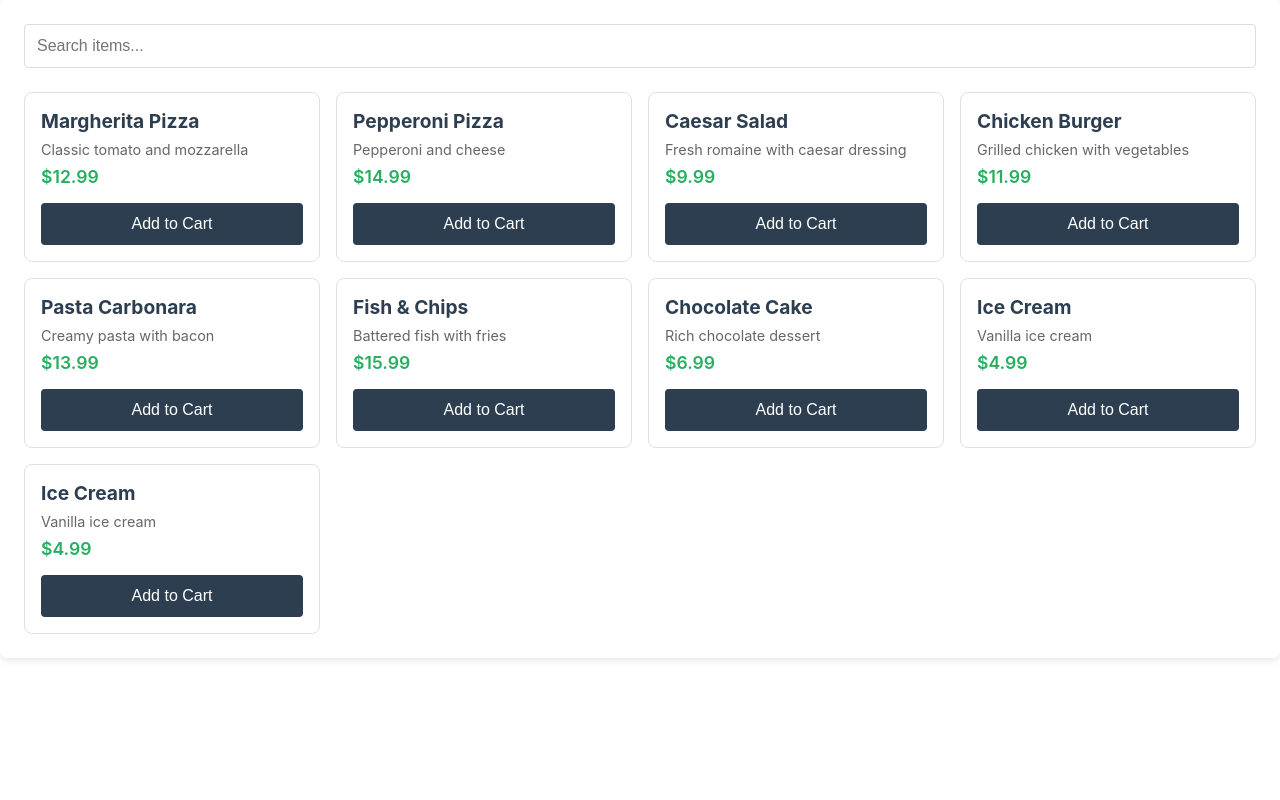
Scenario: ItemList › filters items by description
Type "chocolate" into the field with placeholder "Search items...". click: (640, 46)
box: [24, 24, 1256, 68]
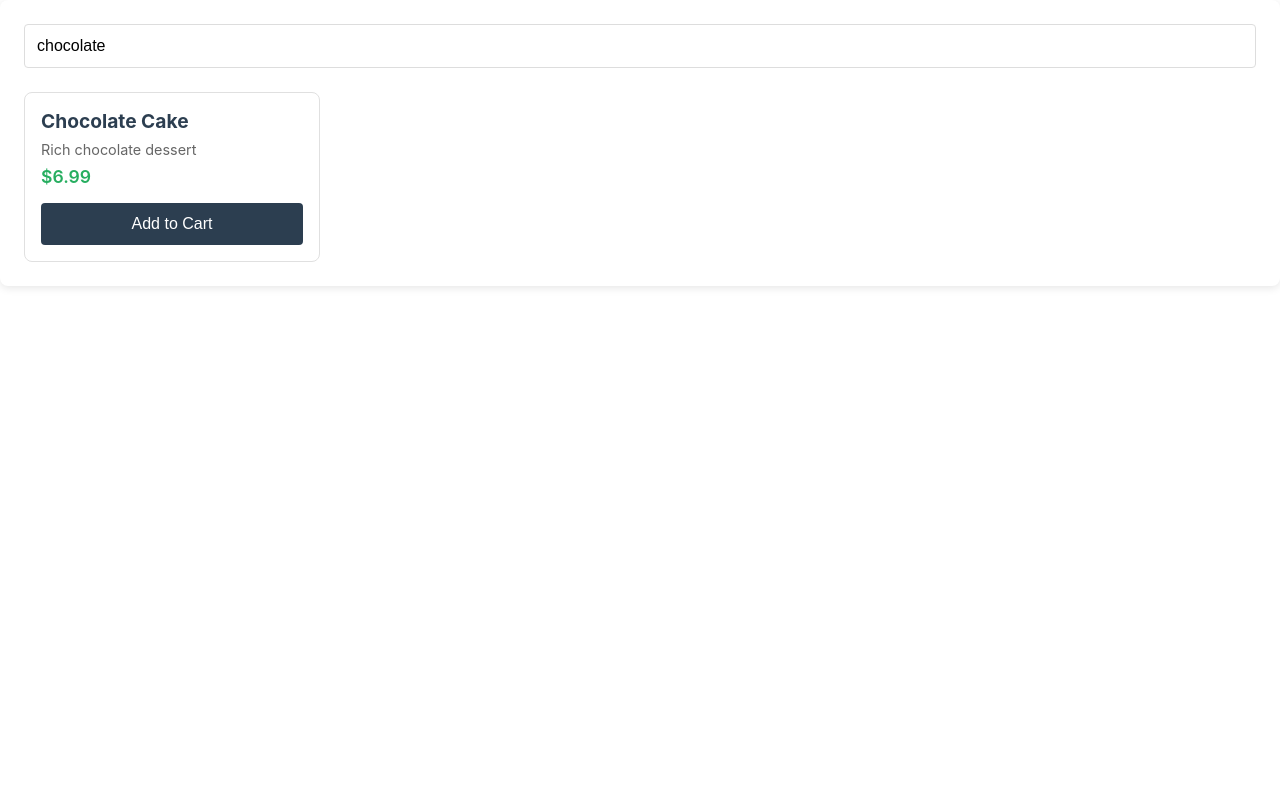
Expected: the heading "Chocolate Cake" is shown, [41, 109, 189, 133]
Expected: the heading "Margherita Pizza" is gone
